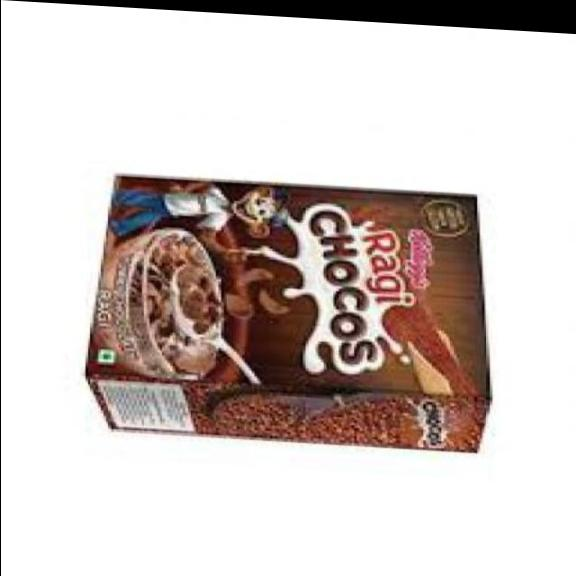Kertas: (87, 176, 490, 451)
